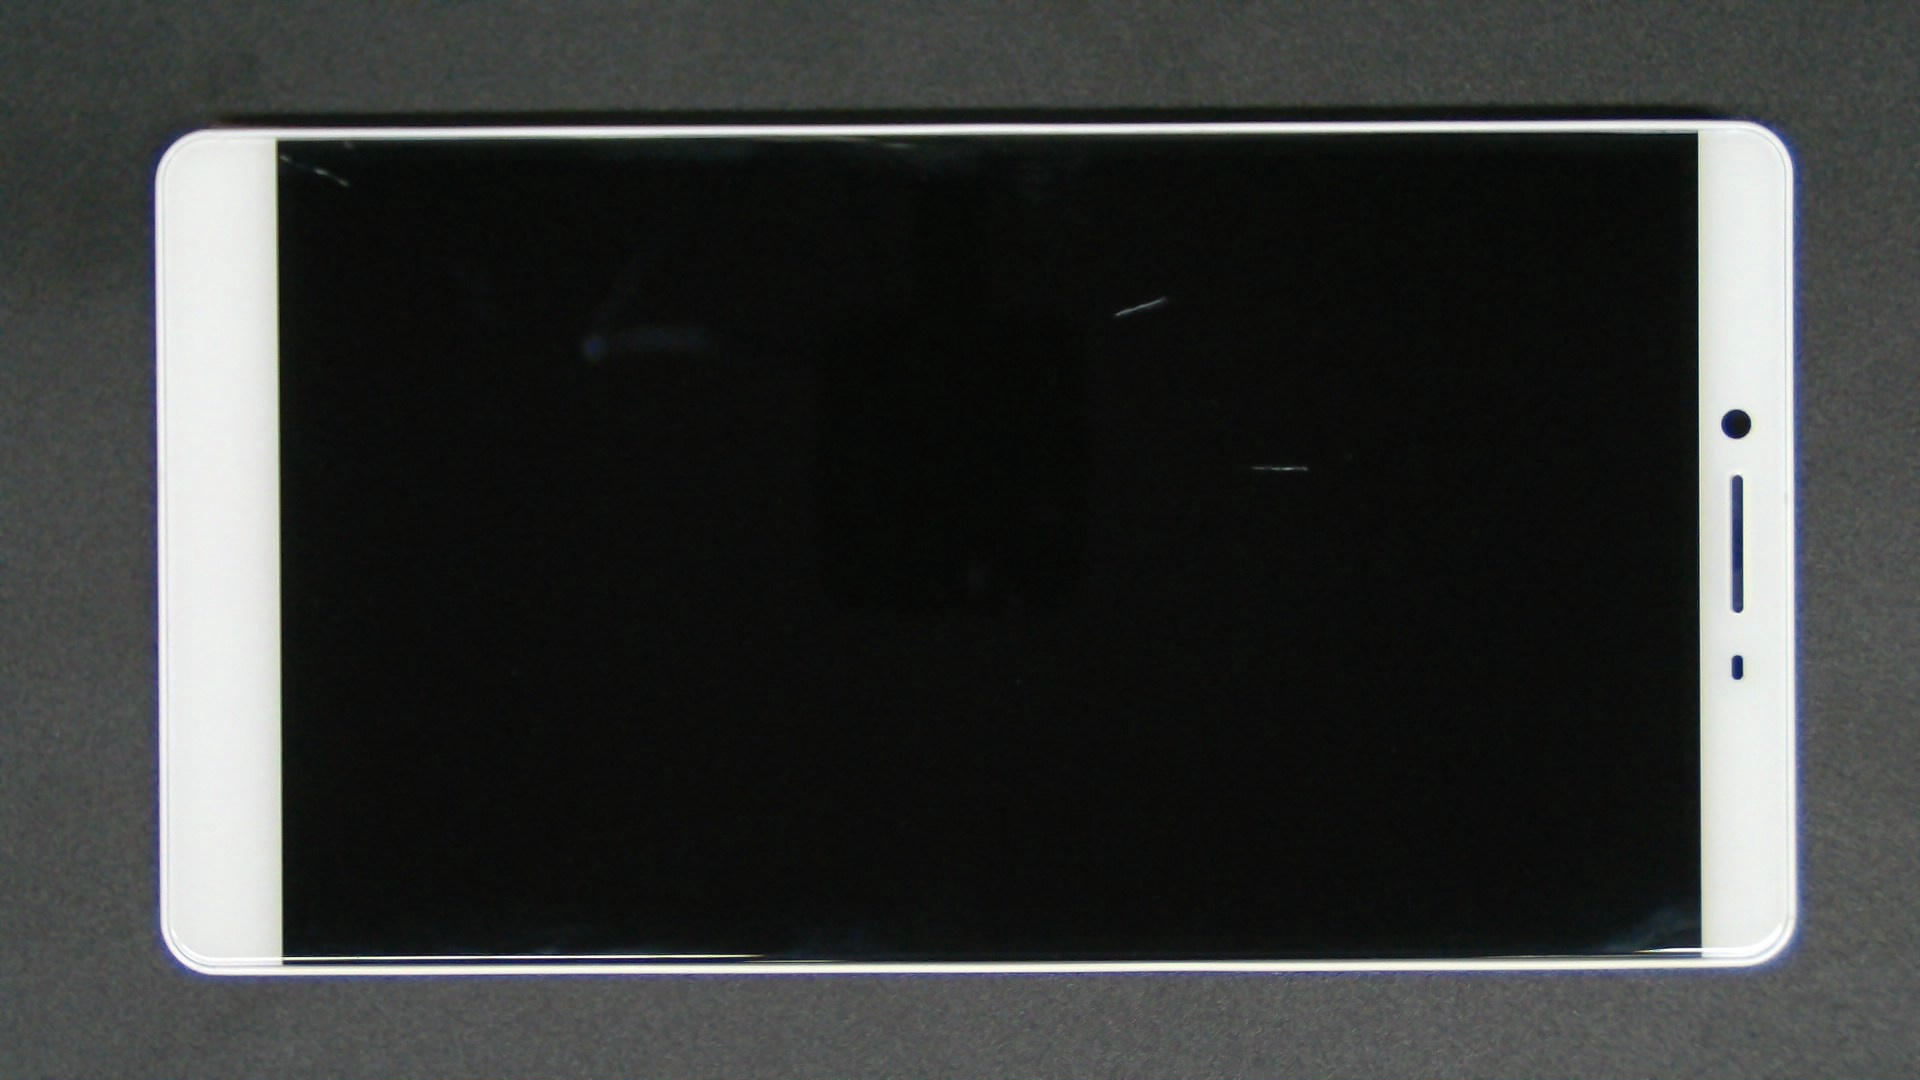oil: (626, 232, 1878, 698), (582, 148, 1745, 444), (141, 75, 422, 235)
